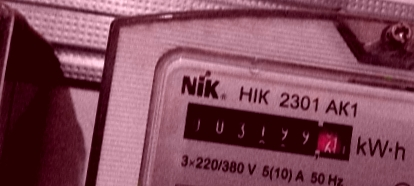0: (214, 116, 227, 136), (191, 113, 203, 132)
1: (258, 119, 269, 139)
3: (235, 119, 248, 140)
6: (322, 138, 334, 153)
9: (278, 122, 291, 143), (300, 127, 313, 146)
screen: (175, 90, 363, 172)
